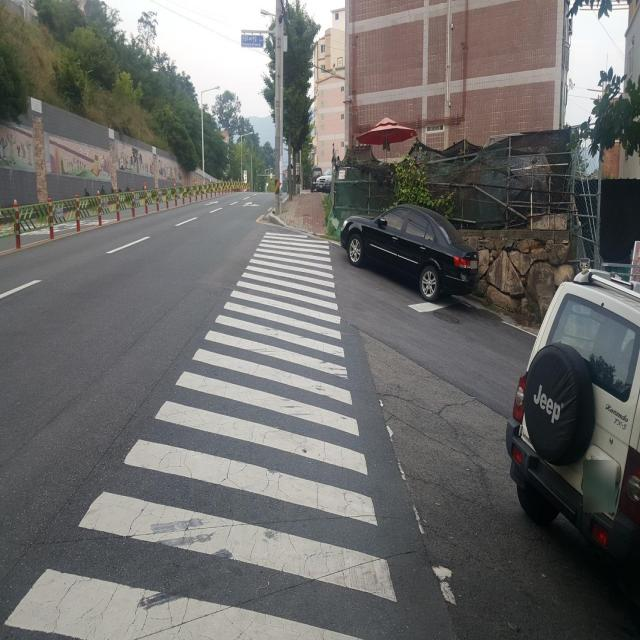횡단보도: (3, 232, 398, 639)
